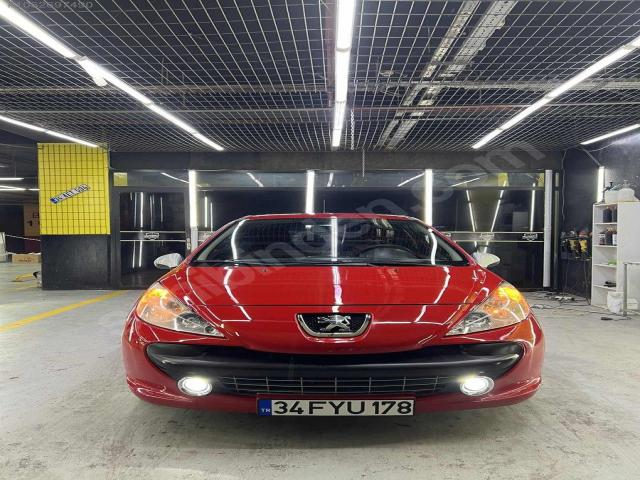plaka: (258, 398, 414, 416)
